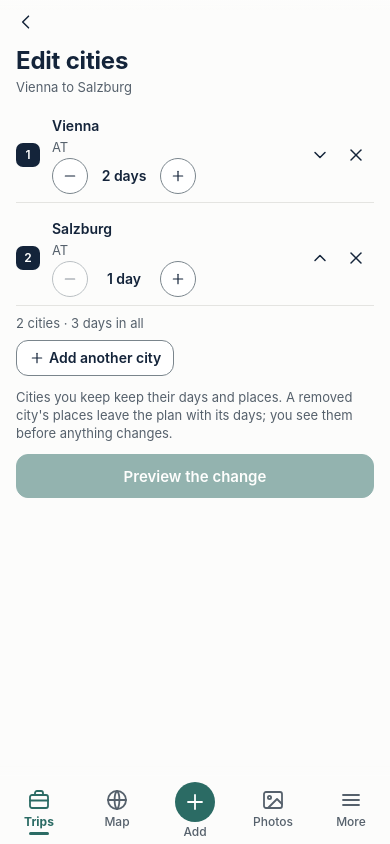
Test: editing the cities of a planned trip opens the preview of the change
Expected: the text with test id "stop-total" reads "2 cities · 3 days in all", x1=16 y1=315 x2=144 y2=331
Expected: the button with test id "save-stops" is disabled, x1=16 y1=454 x2=374 y2=498
Click the button with test id "stop-1-up" at (320, 258), box x1=302 y1=240 x2=338 y2=276
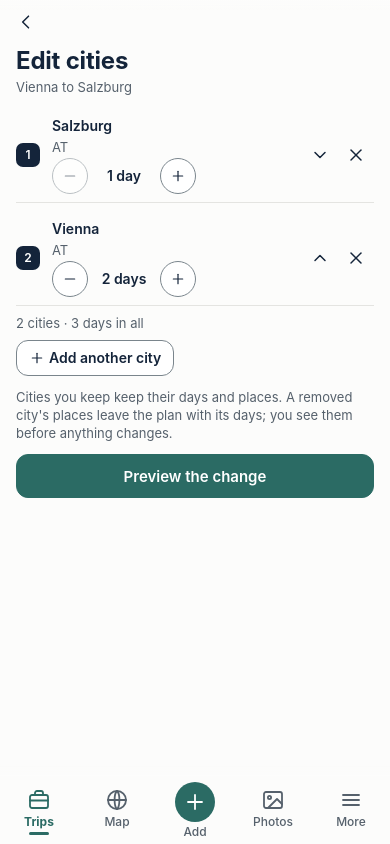
Click the button with test id "save-stops" at (195, 476), box x1=16 y1=454 x2=374 y2=498
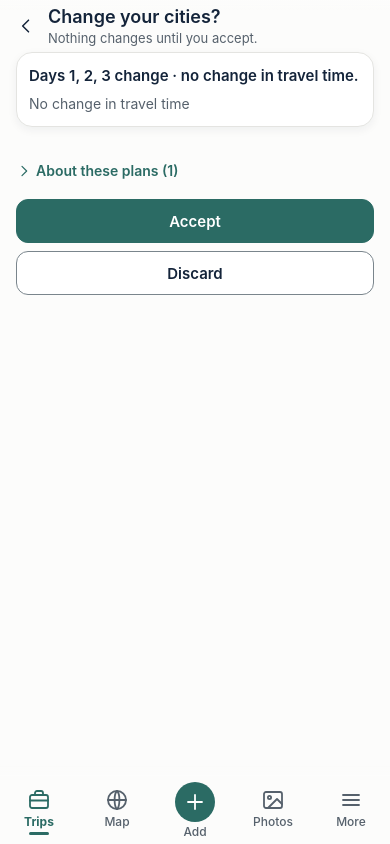
Expected: the text "Change your cities?" is shown, x1=48 y1=6 x2=221 y2=27
